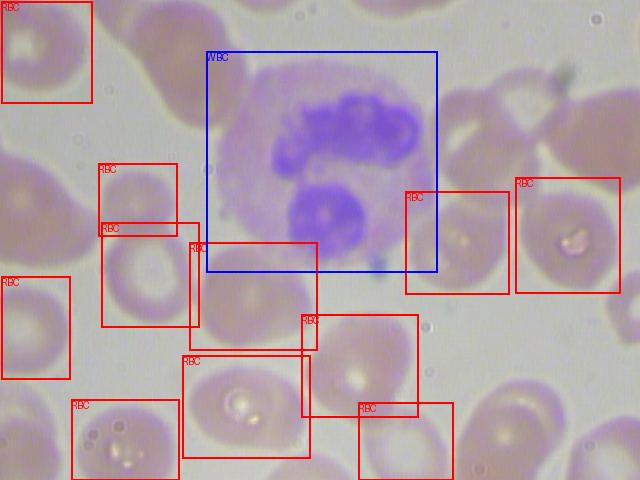RBC: (189, 242, 317, 350), (182, 355, 310, 458), (515, 177, 620, 293), (301, 314, 418, 417), (405, 191, 509, 294), (101, 222, 199, 327), (1, 1, 92, 103), (71, 399, 179, 480), (358, 402, 453, 480), (1, 276, 70, 379), (98, 163, 177, 236)
WBC: (206, 51, 437, 272)
